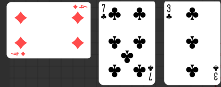3C: (212, 64, 220, 82)
4D: (10, 51, 27, 58)
7C: (100, 3, 108, 21)
